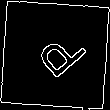P_SW: (24, 24, 86, 86)
